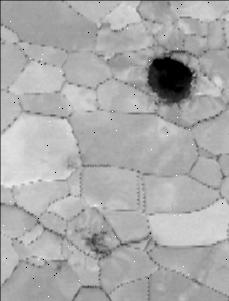good_void: (140, 53, 200, 108), (72, 221, 111, 256), (64, 152, 86, 172), (56, 263, 65, 273), (104, 56, 113, 64)
